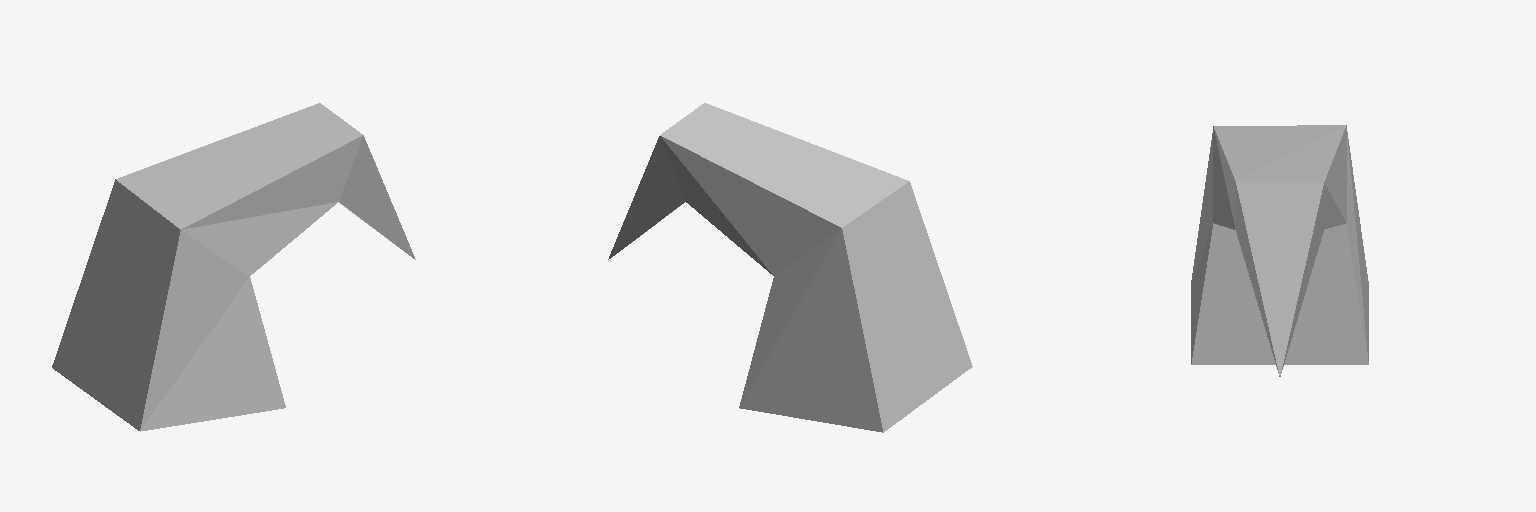
File: skeletal_000026.obj
The picture shows the model from 3 angles: view 1: azimuth 30°, elevation 25°; view 2: azimuth 150°, elevation 25°; view 3: azimuth 270°, elevation 25°; orthographic projection.
Parts seen in each view (by area): view 1: Cube; view 2: Cube; view 3: Cube.
Boxes of the visible parts, x1,y1,x2,y2 form: Cube: [52, 103, 415, 431]; Cube: [608, 103, 972, 432]; Cube: [1191, 125, 1368, 376].
Bounding box in the file's own units: 4.18 × 2.89 × 2.